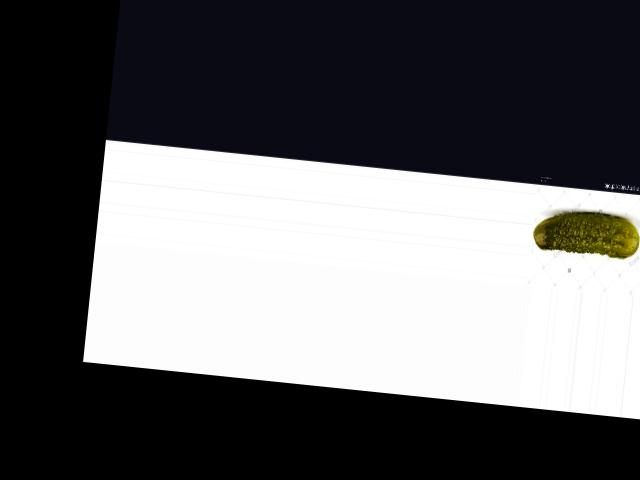cucumber: (530, 206, 640, 260)
